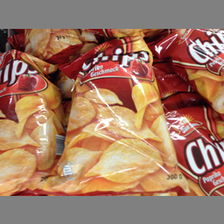chips: (61, 40, 179, 190), (1, 48, 59, 194), (156, 30, 224, 114)
